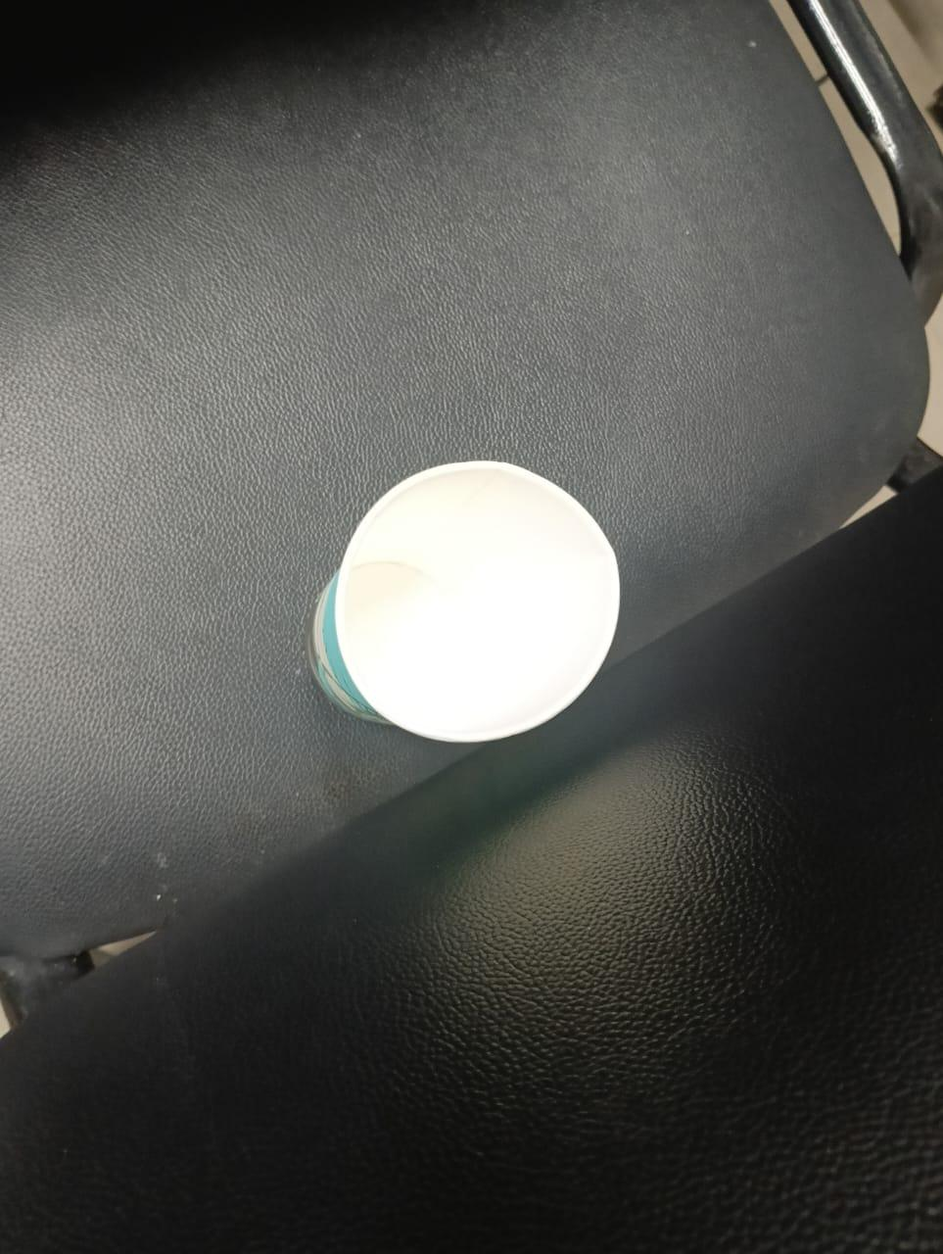cup: (308, 461, 619, 741)
